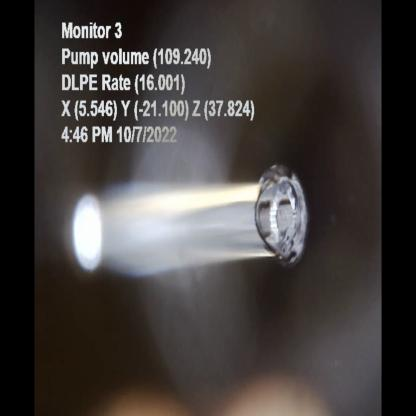Droplet: (254, 166, 311, 272)
